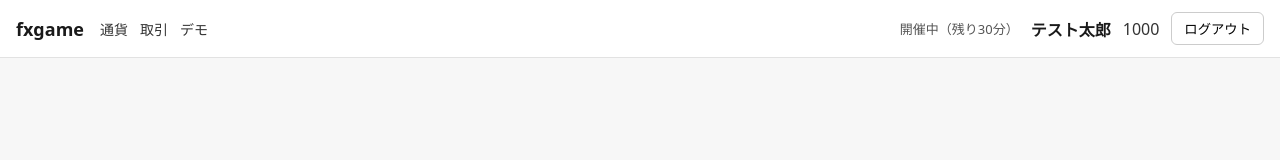
Test: Header › ログアウトに失敗したらエラー表示を出す
Click the button "ログアウト" at (1218,28), box [1171, 12, 1264, 45]
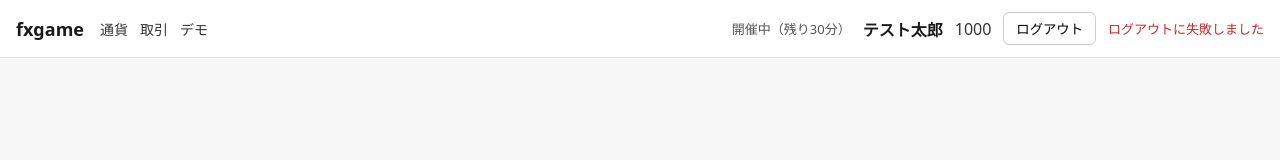
expect the text "ログアウトに失敗しました" is shown: met, box [1108, 19, 1264, 38]
